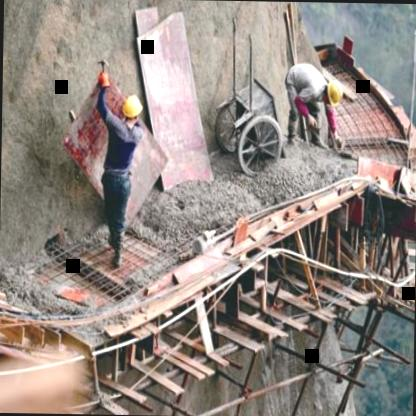helmet: (121, 94, 144, 124), (320, 80, 344, 107)
